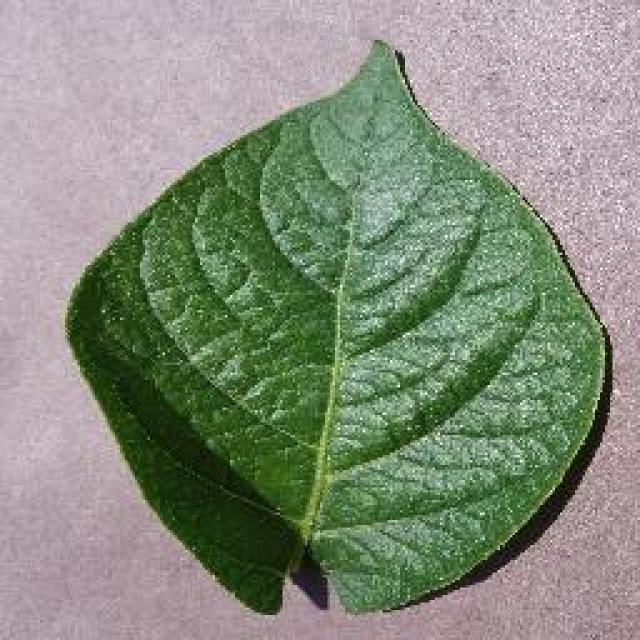healthy: (60, 35, 615, 620)
